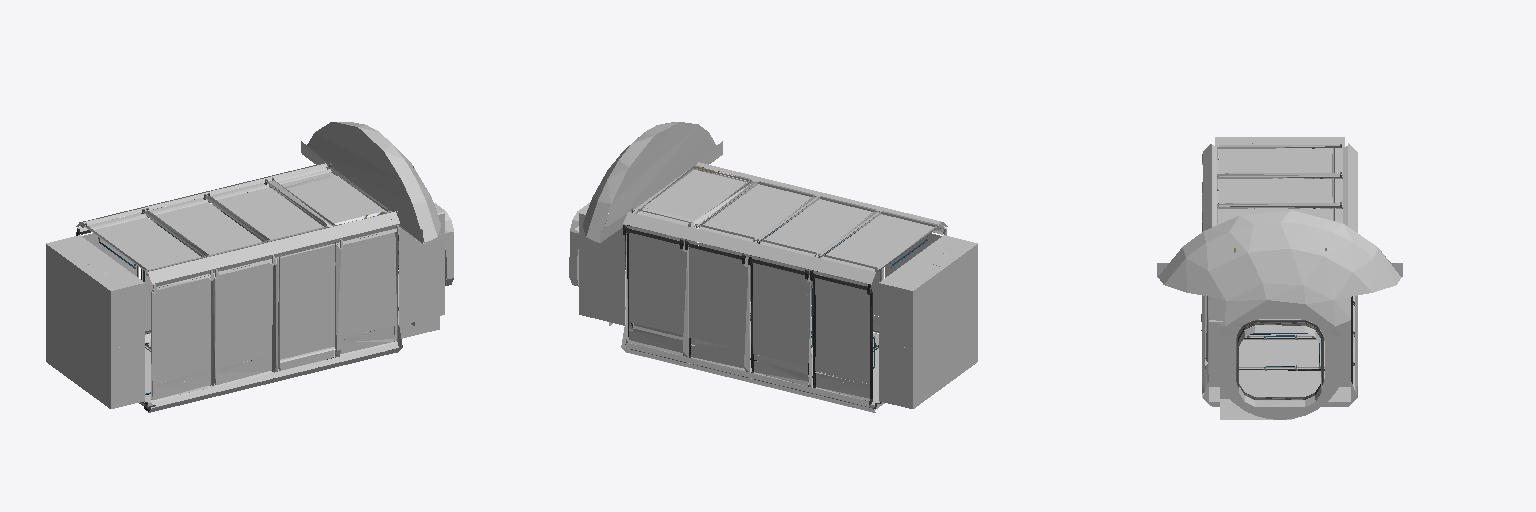
3 views of the same model, side by side, from view 1: azimuth 30°, elevation 25°; view 2: azimuth 150°, elevation 25°; view 3: azimuth 270°, elevation 25° (orthographic).
Visible parts, largest first — view 1: Module_Connect_004; view 2: Module_Connect_004; view 3: Module_Connect_004.
Boxes of the visible parts, x1=… form: Module_Connect_004: x1=46, y1=122, x2=453, y2=412; Module_Connect_004: x1=569, y1=122, x2=977, y2=412; Module_Connect_004: x1=1157, y1=137, x2=1402, y2=419.
Size of the model in its own units: 6.03 by 3.19 by 3.6.
8 materials, 1 textured.